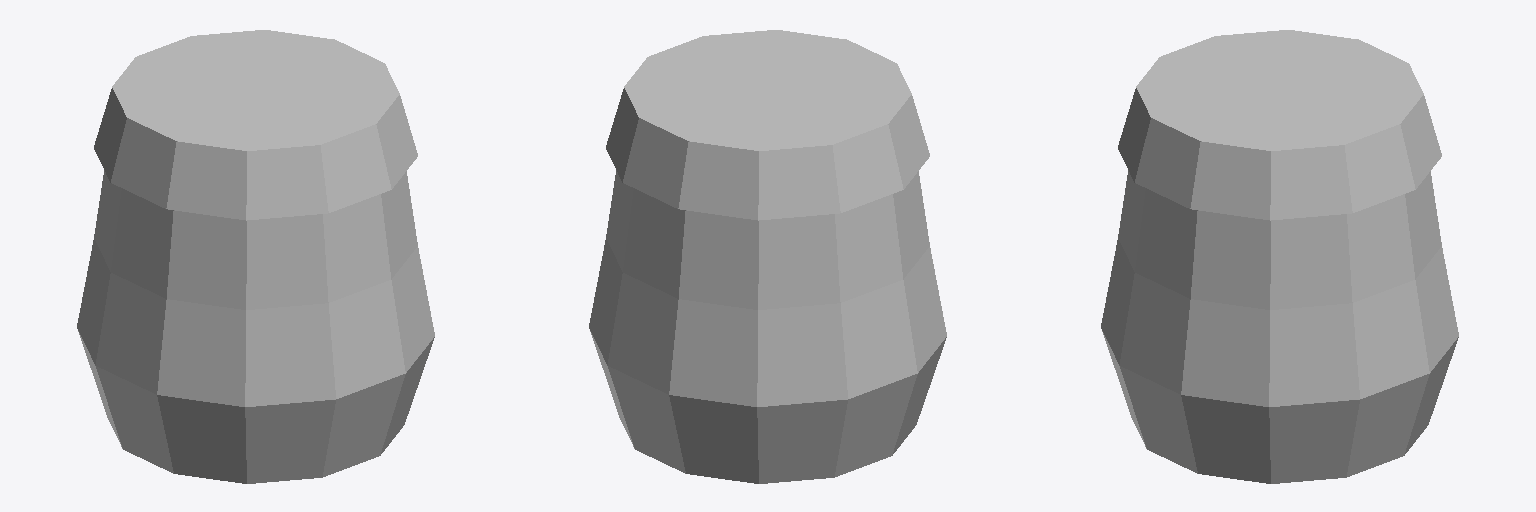
Rendered from Space_Mayo_Naise.obj.
3 views of the same model, side by side, from view 1: azimuth 30°, elevation 25°; view 2: azimuth 150°, elevation 25°; view 3: azimuth 270°, elevation 25° (orthographic).
Visible parts, largest first — view 1: Space_Mayo_Naise; view 2: Space_Mayo_Naise; view 3: Space_Mayo_Naise.
Boxes of the visible parts, x1,y1,x2,y2 form: Space_Mayo_Naise: [77, 30, 434, 483]; Space_Mayo_Naise: [589, 30, 946, 483]; Space_Mayo_Naise: [1101, 30, 1458, 483].
Size of the model in its own units: 0.241 by 0.2455 by 0.241.